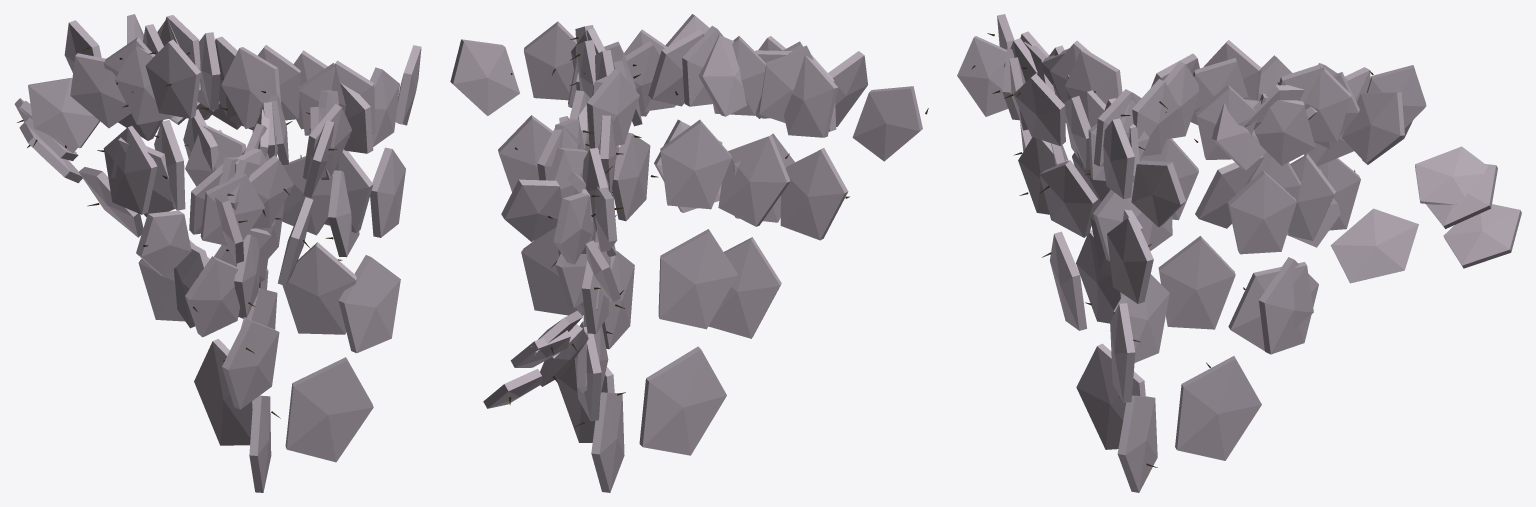
Rendered from prickly_pear_v02_LOD1.glb.
The picture shows the model from 3 angles, left to right: view 1: azimuth 30°, elevation 25°; view 2: azimuth 150°, elevation 25°; view 3: azimuth 270°, elevation 25°; orthographic projection. The views are drawn at different scales.
Visible parts, largest first — view 1: prickly_pear_v02_LOD1; view 2: prickly_pear_v02_LOD1; view 3: prickly_pear_v02_LOD1.
Boxes of the visible parts, <box> form: prickly_pear_v02_LOD1: <box>14,14,421,492</box>; prickly_pear_v02_LOD1: <box>450,14,928,492</box>; prickly_pear_v02_LOD1: <box>957,14,1521,492</box>.
Size of the model in its own units: 0.6125 by 0.6559 by 0.8145.
2 materials, 1 textured.
